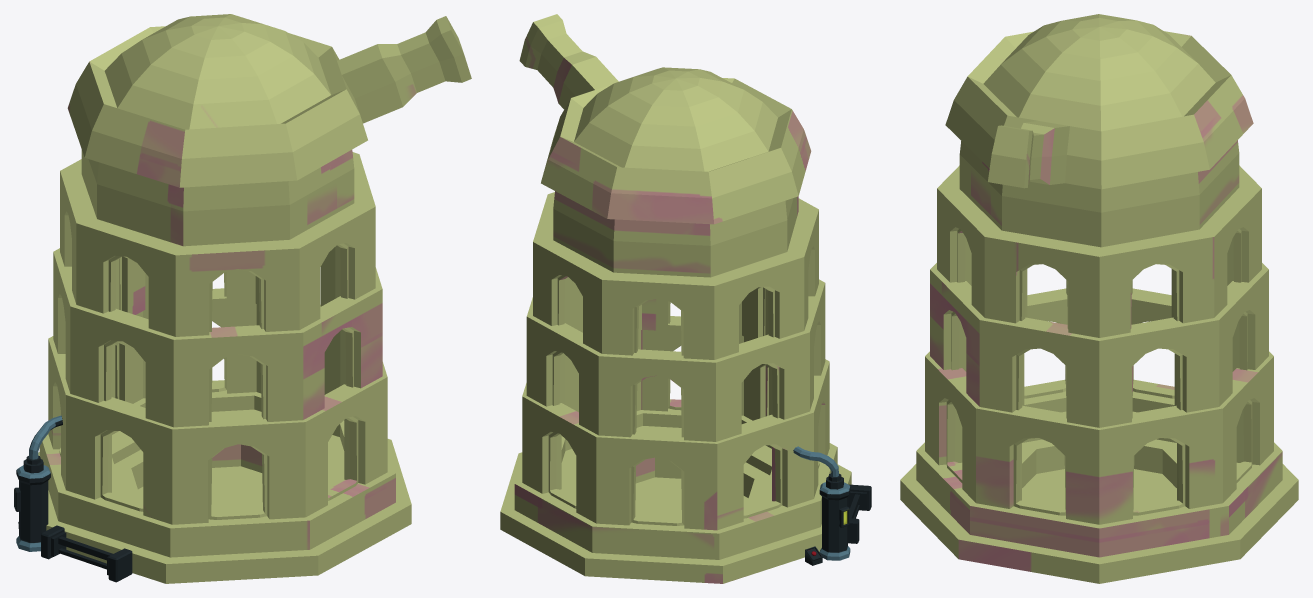
File: obs.fbx
3 renders of one model, left to right at view 1: azimuth 30°, elevation 25°; view 2: azimuth 150°, elevation 25°; view 3: azimuth 270°, elevation 25°, orthographic. The views are drawn at different scales.
Visible parts, largest first — view 1: champ_ferme.001, battery_ferme.003, pipe_ferme.001; view 2: champ_ferme.001, battery_ferme.003, pipe_ferme.001; view 3: champ_ferme.001.
Part boxes in pixels (x1=…): champ_ferme.001: x1=38, y1=14, x2=471, y2=583; battery_ferme.003: x1=14, y1=415, x2=62, y2=551; pipe_ferme.001: x1=41, y1=525, x2=132, y2=582; champ_ferme.001: x1=500, y1=14, x2=851, y2=583; battery_ferme.003: x1=793, y1=446, x2=850, y2=565; pipe_ferme.001: x1=848, y1=484, x2=871, y2=543; champ_ferme.001: x1=900, y1=14, x2=1298, y2=583.
Size of the model in its own units: 1646 by 1846 by 1404.
